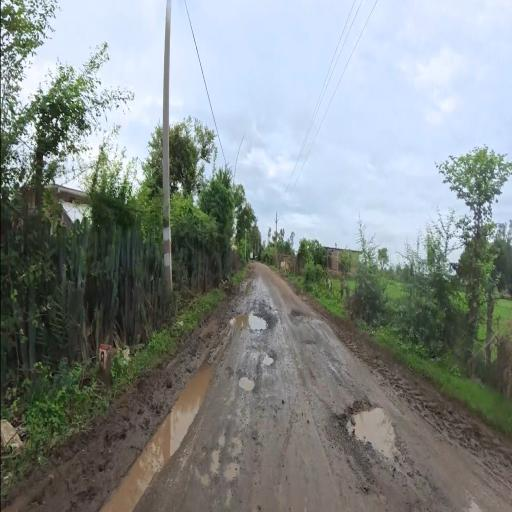pothole: (310, 357, 410, 488), (236, 270, 287, 432)
